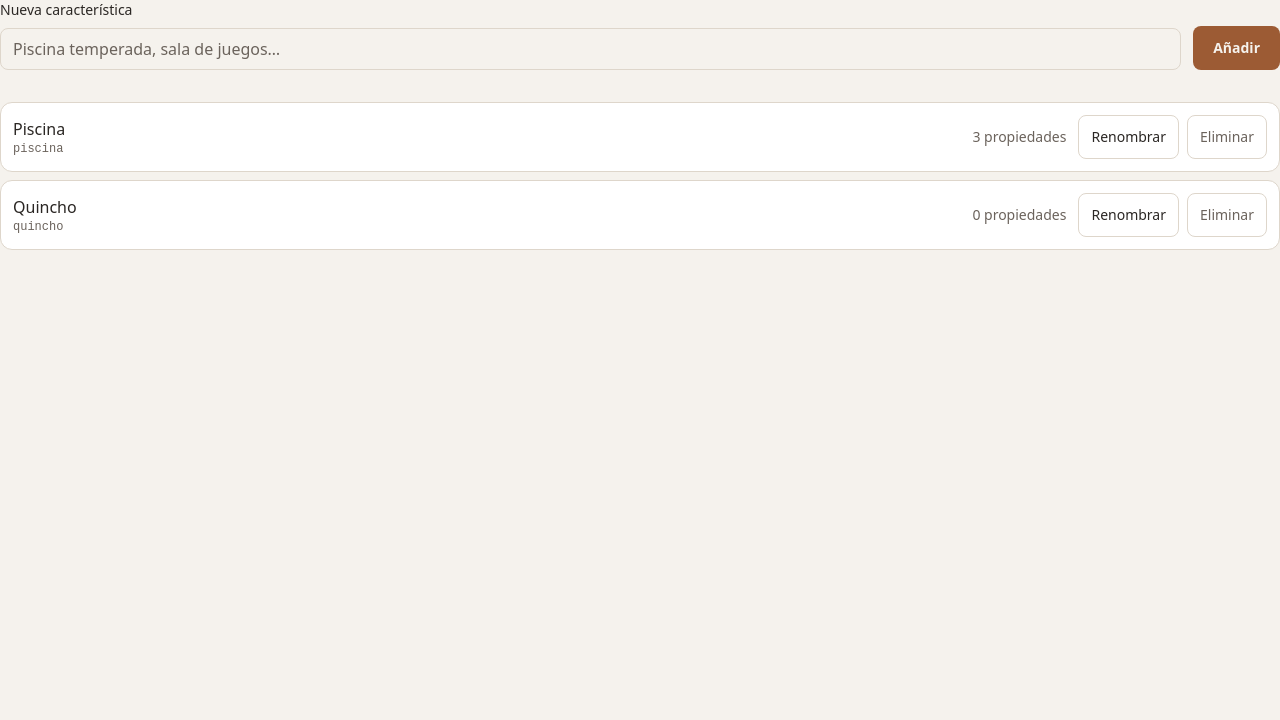
FeatureManager › lo dice también cuando no la usa ninguna
Click the button named "Eliminar Quincho".
click(1227, 215)  # box [1187,193,1267,237]
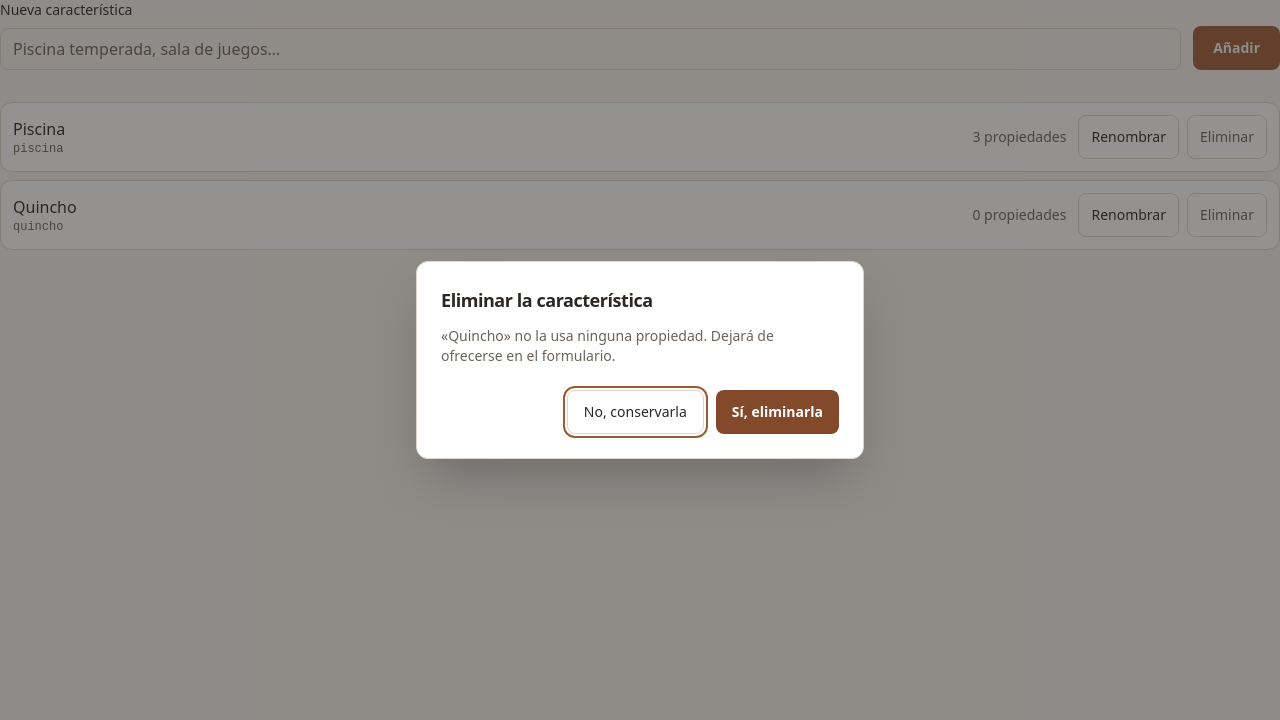
Result: the dialog shows "no la usa ninguna propiedad" at [441,326,774,365]
